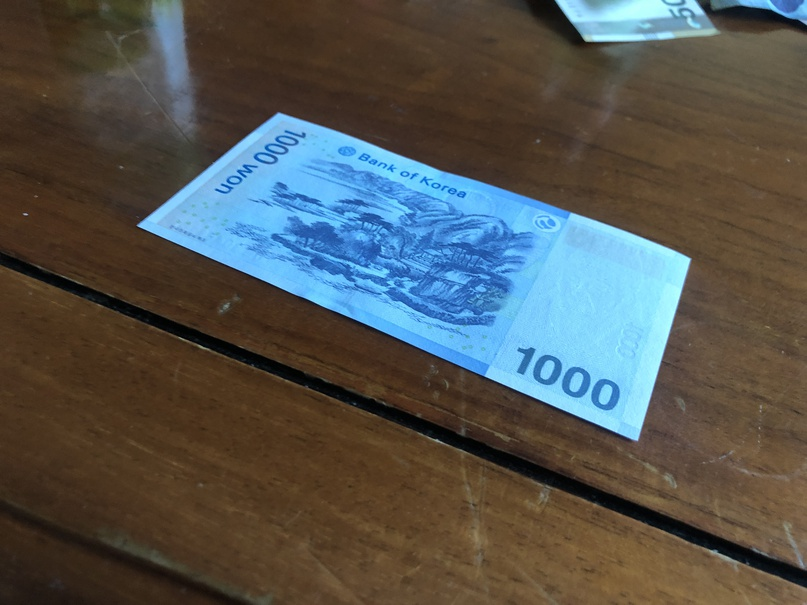1000won: (134, 111, 693, 444)
